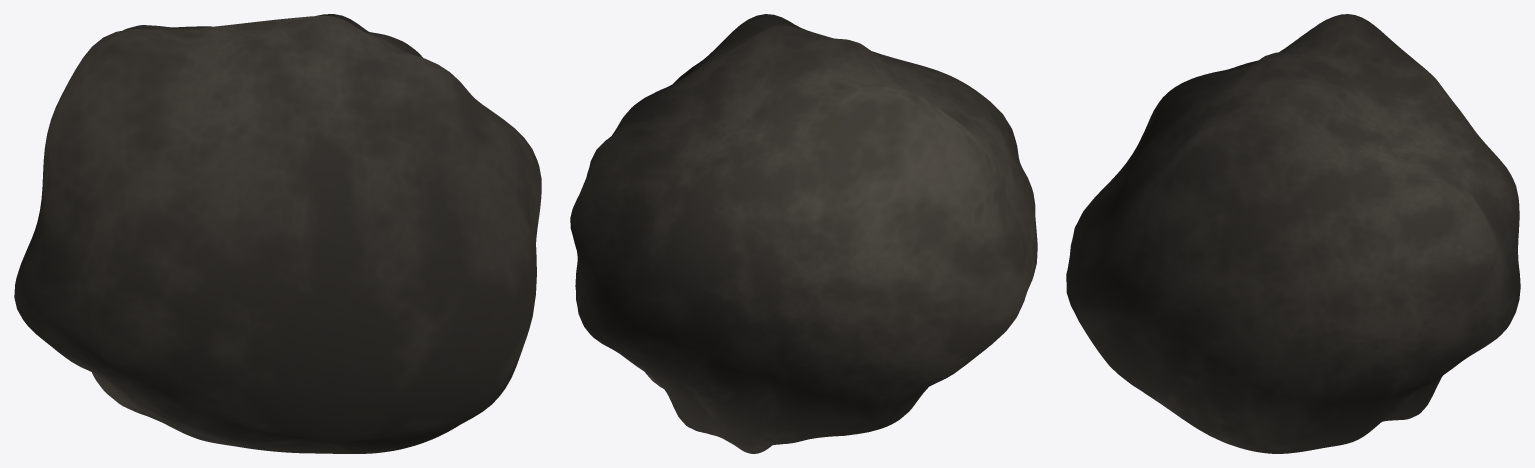
File: asteroid-knob.glb
3 renders of one model, left to right at view 1: azimuth 30°, elevation 25°; view 2: azimuth 150°, elevation 25°; view 3: azimuth 270°, elevation 25°, orthographic. The views are drawn at different scales.
Parts seen in each view (by area): view 1: asteroid_5010; view 2: asteroid_5010; view 3: asteroid_5010.
Boxes of the visible parts, x1=… form: asteroid_5010: x1=14, y1=14, x2=541, y2=453; asteroid_5010: x1=570, y1=14, x2=1037, y2=453; asteroid_5010: x1=1066, y1=14, x2=1520, y2=453.
Size of the model in its own units: 22.04 by 19.5 by 23.13.
1 material, 1 textured.
